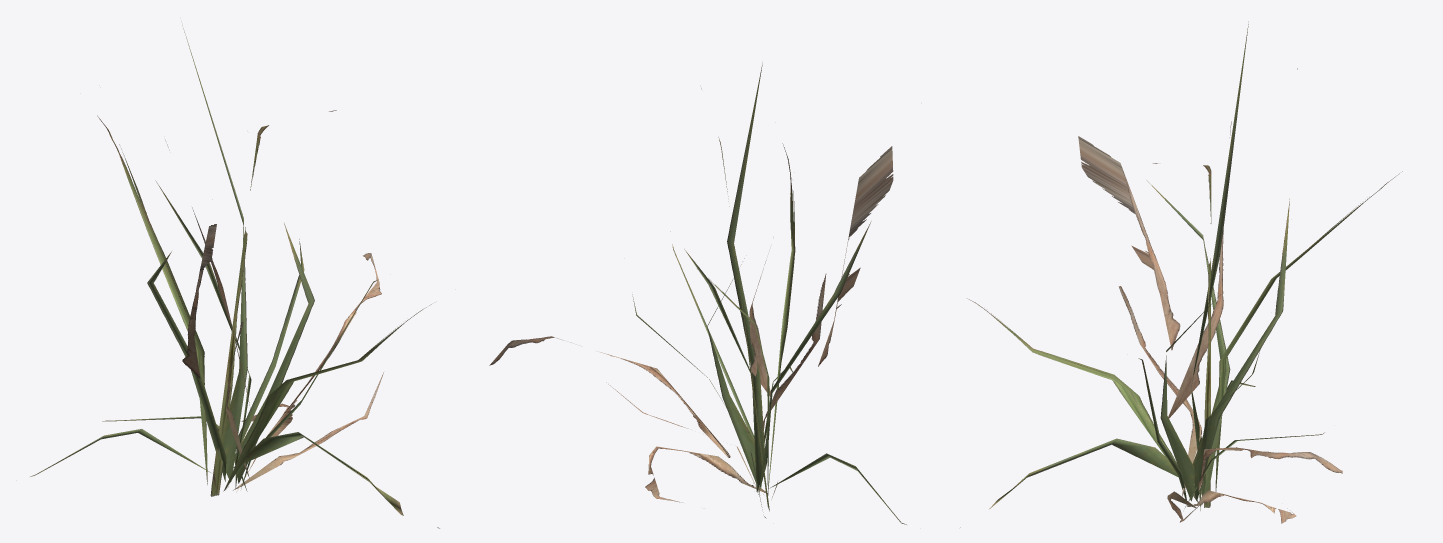
File: grass.glb
3 renders of one model, left to right at view 1: azimuth 30°, elevation 25°; view 2: azimuth 150°, elevation 25°; view 3: azimuth 270°, elevation 25°, orthographic. The views are drawn at different scales.
Visible parts, largest first — view 1: grass_medium_02_a; view 2: grass_medium_02_a; view 3: grass_medium_02_a.
Part boxes in pixels (x1,y1,x2,y2): grass_medium_02_a: [30, 25, 439, 528]; grass_medium_02_a: [489, 63, 906, 524]; grass_medium_02_a: [960, 21, 1402, 527].
Size of the model in its own units: 0.1169 by 0.1341 by 0.1198.
Materials: 1 (1 with a texture image).
